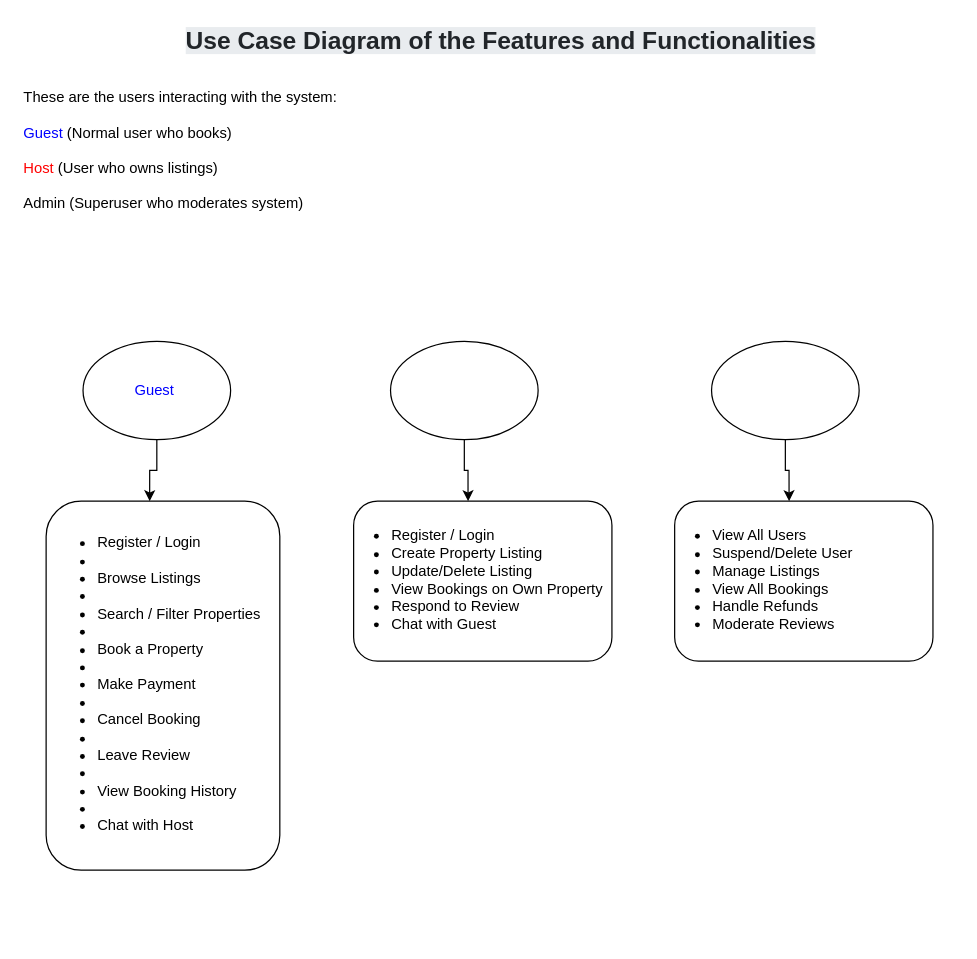
Image size: 977x959. Some labels were removed from this diagram. Here are the shapes that lost their labels. From the top down, the centre of each, then its label:
At [463,390]: "Host".
At [784,390]: "Admin".
